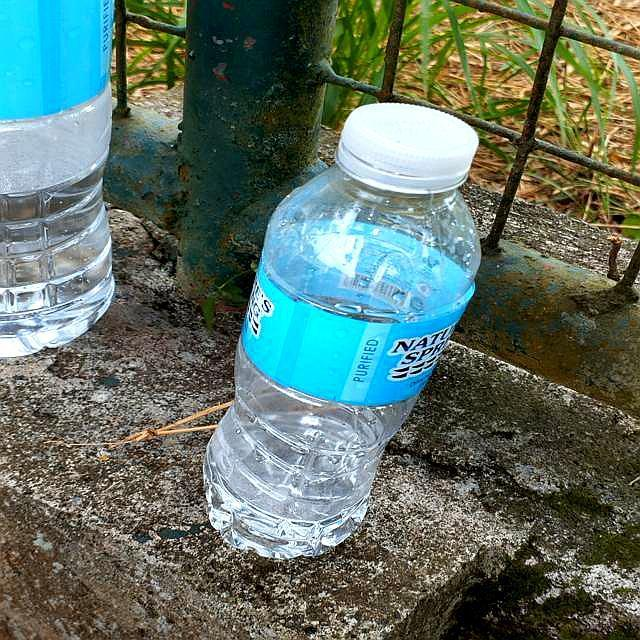Non-biodegradable: (202, 100, 485, 562), (1, 5, 119, 367)
